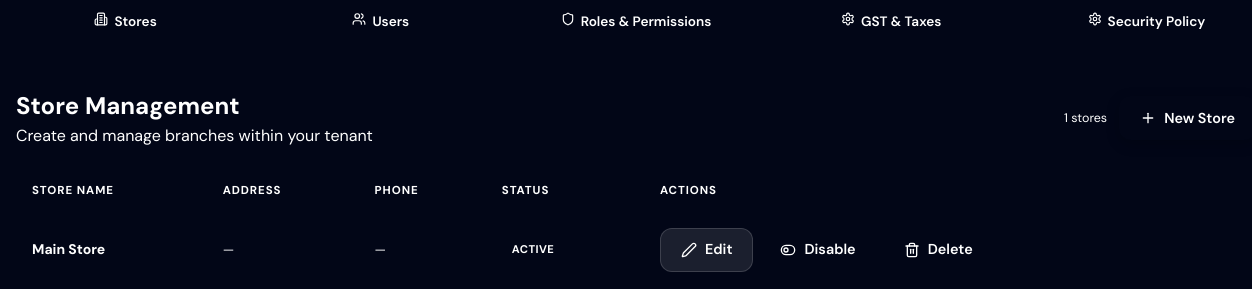
AdminPage user status controls › does not show lock, disable, or delete actions for the signed-in user
Click the button "Users": (381, 22) [255, 4, 506, 40]
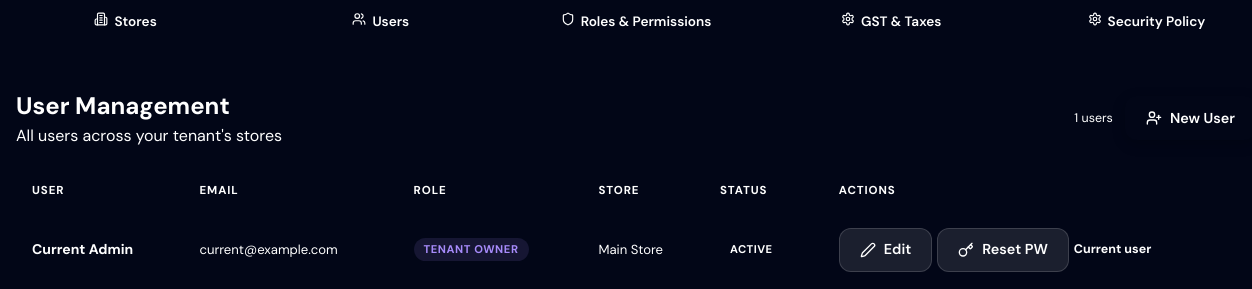
Result: the text "Current user" is shown at [1074, 240, 1151, 259]
